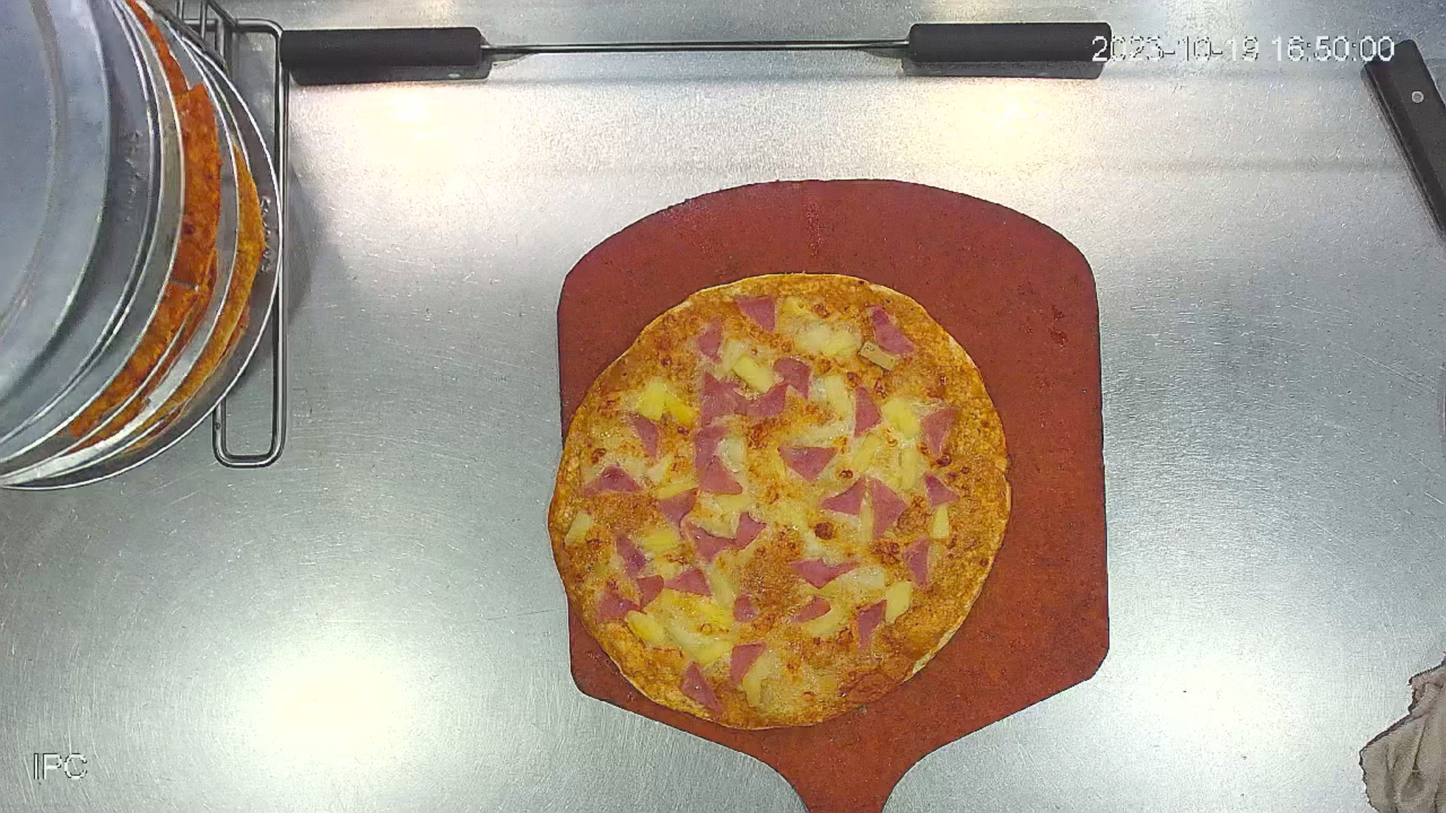hawaiian: (541, 261, 1017, 731)
